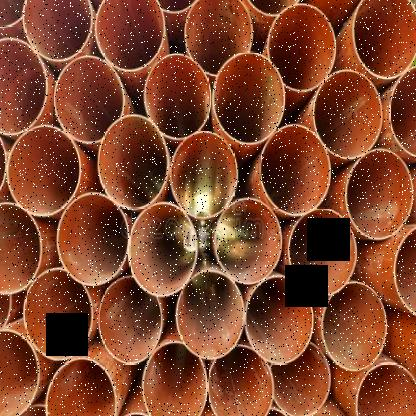pipe: (6, 124, 82, 216), (57, 192, 130, 286), (212, 51, 284, 146), (98, 114, 168, 209), (260, 124, 332, 216), (23, 267, 92, 361), (129, 202, 197, 296), (313, 69, 383, 160), (288, 207, 359, 296), (53, 56, 125, 143), (346, 148, 413, 240), (321, 280, 388, 372), (245, 275, 313, 365), (144, 52, 212, 140), (176, 271, 244, 359), (170, 131, 238, 218), (215, 198, 283, 285), (268, 4, 336, 91), (98, 276, 162, 364), (184, 0, 254, 76), (351, 0, 416, 80), (141, 340, 208, 416), (95, 0, 165, 72), (207, 343, 275, 416), (0, 36, 49, 136), (270, 343, 331, 416), (21, 0, 92, 62), (46, 358, 118, 416), (0, 202, 43, 294), (0, 328, 40, 416), (355, 361, 416, 416), (388, 64, 416, 159), (393, 223, 416, 319), (244, 0, 306, 16), (0, 0, 28, 29), (148, 0, 204, 14), (0, 127, 9, 206), (248, 404, 296, 416), (0, 287, 12, 331)
